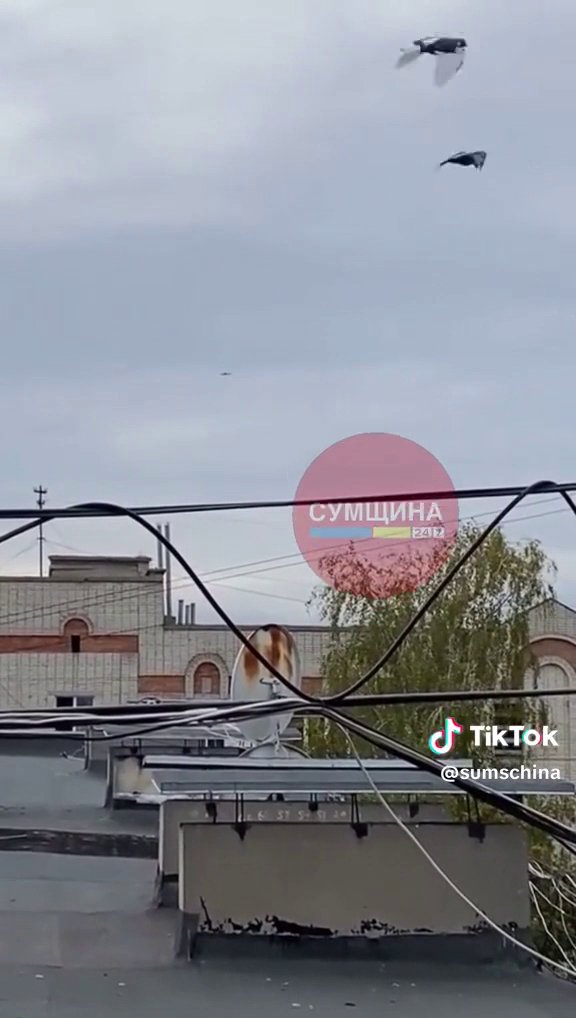not_drone: (378, 20, 494, 114), (407, 127, 516, 192)
